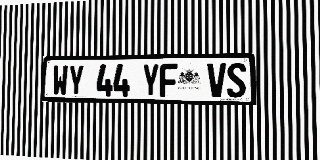4: (96, 64, 113, 96), (113, 64, 130, 96)
F: (160, 63, 177, 97)
S: (227, 63, 246, 98)
V: (207, 63, 226, 97)
W: (52, 65, 68, 96)
Y: (142, 64, 159, 97), (68, 65, 84, 96)
